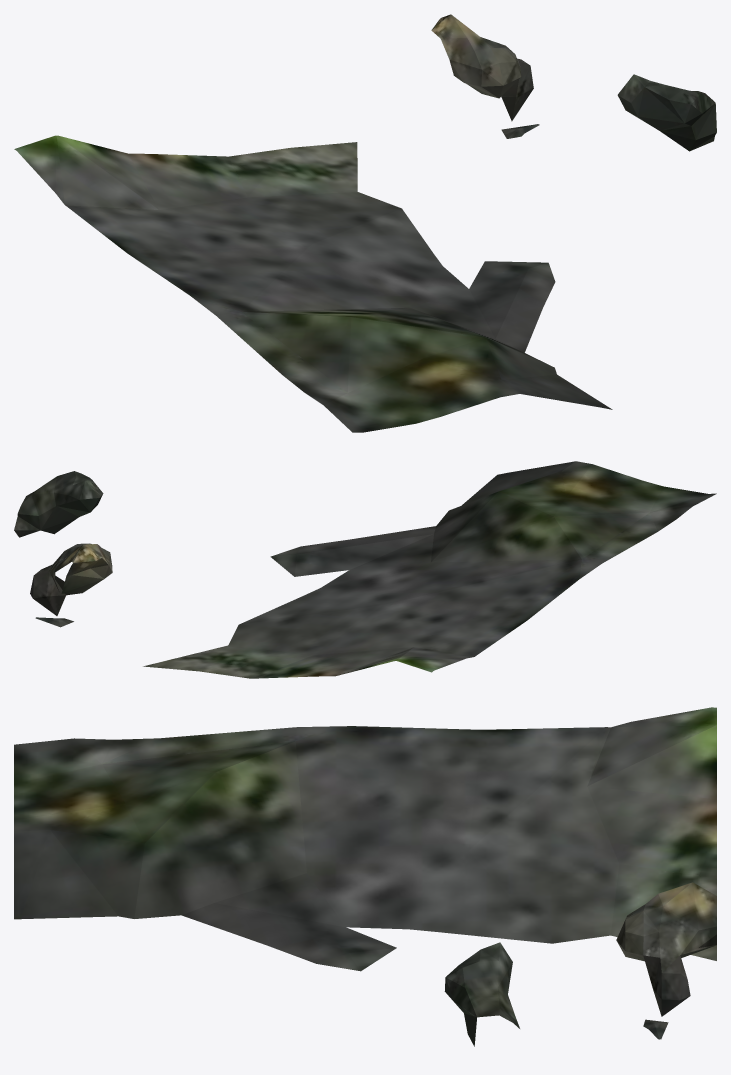
3 renders of one model, top to bottom at view 1: azimuth 30°, elevation 25°; view 2: azimuth 150°, elevation 25°; view 3: azimuth 270°, elevation 25°, orthographic. The views are drawn at different scales.
Size of the model in its own units: 0.8374 by 0.1585 by 0.8373.
2 materials, 2 textured.
